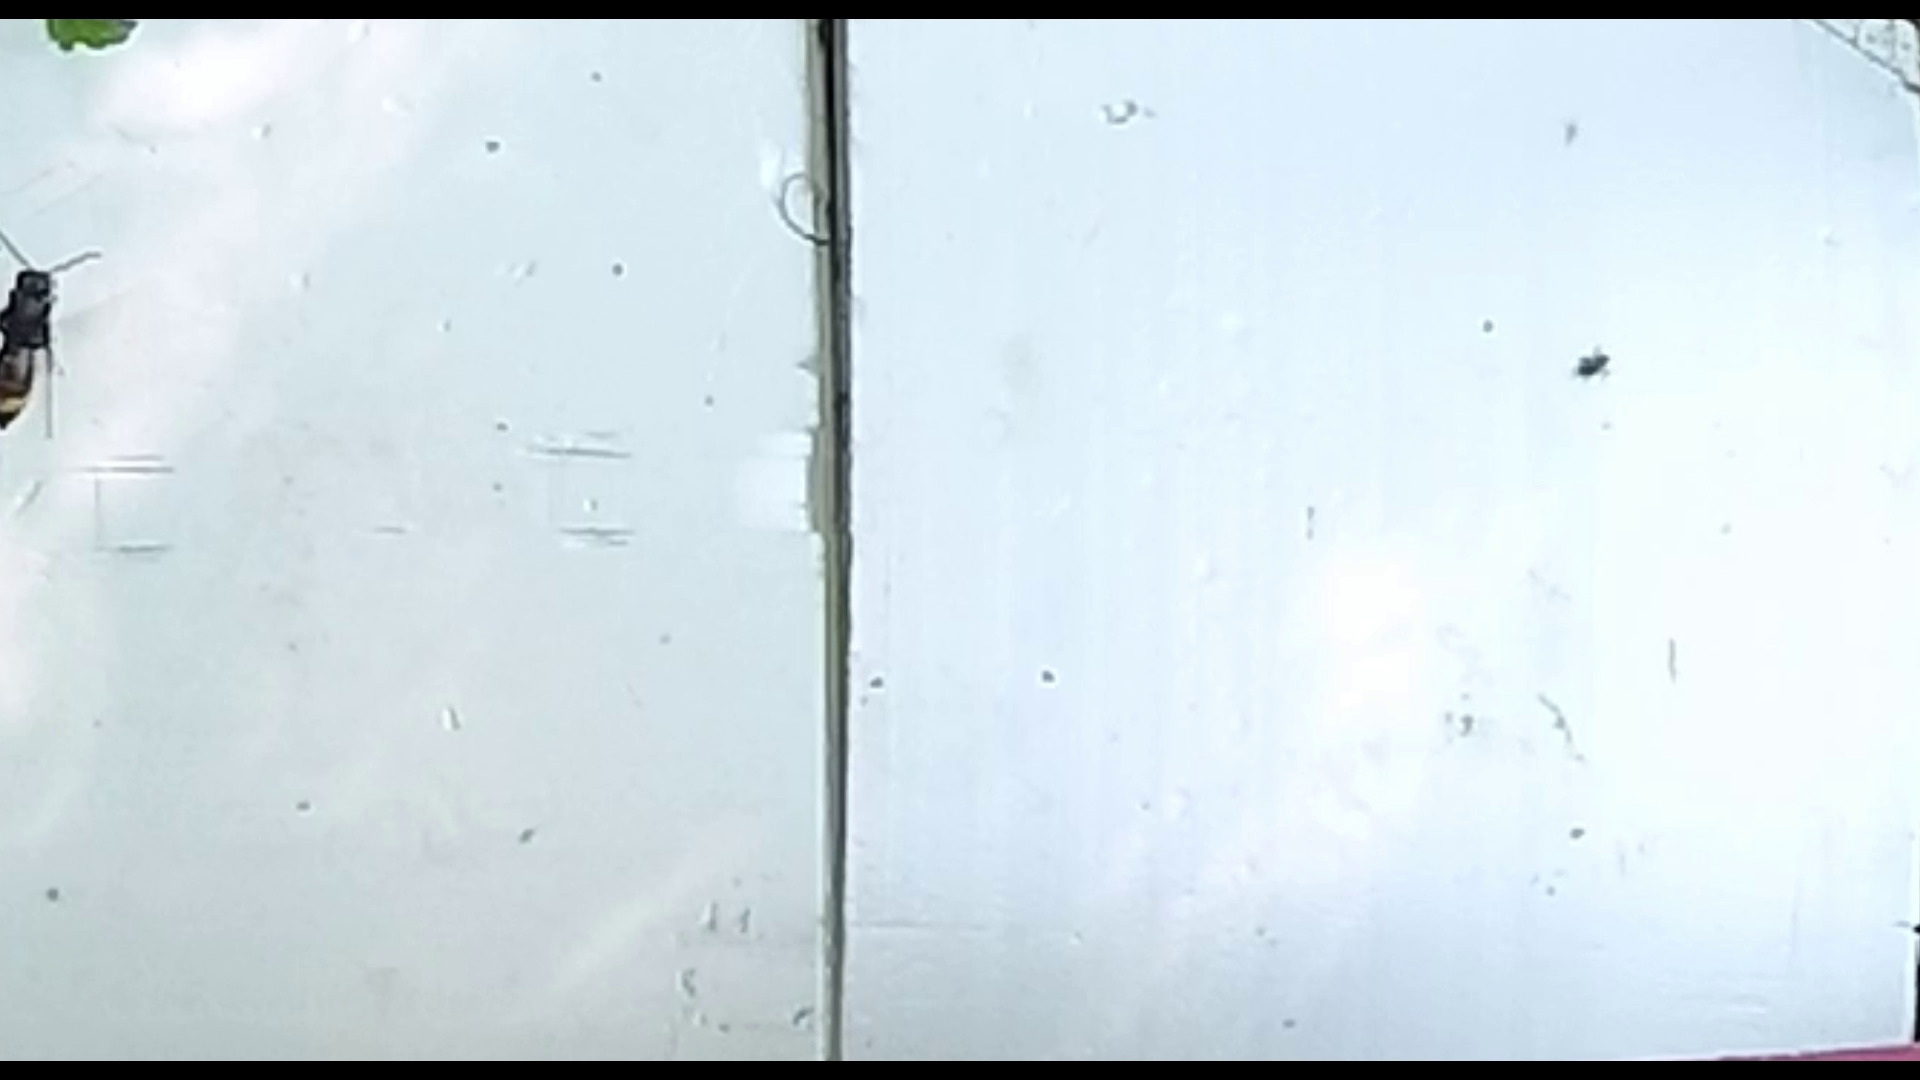Asian_hornets: (0, 229, 105, 452)
